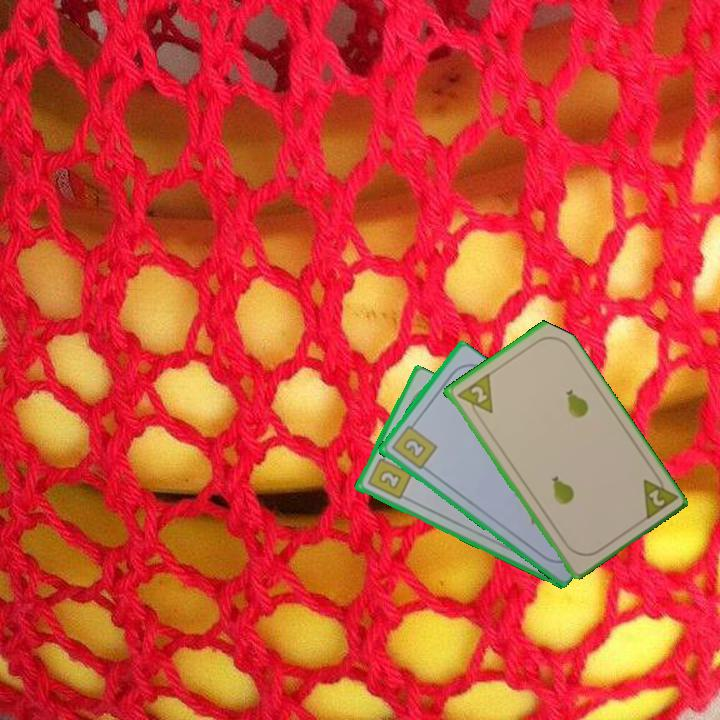2b: (388, 418, 439, 472), (364, 450, 414, 502)
2p: (453, 370, 496, 423), (639, 468, 679, 523)
